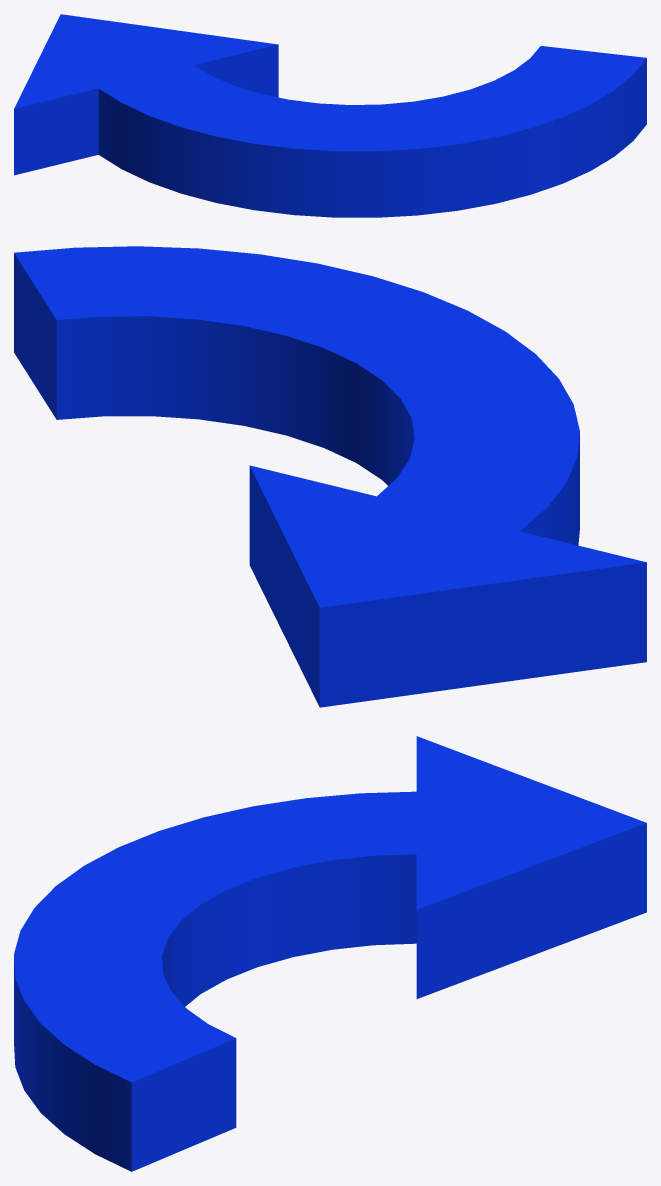
File: ExpArrowcurve.FBX
3 views of the same model, one above another, from view 1: azimuth 30°, elevation 25°; view 2: azimuth 150°, elevation 25°; view 3: azimuth 270°, elevation 25° (orthographic). The views are drawn at different scales.
Parts seen in each view (by area): view 1: Saliente-Extruir1; view 2: Saliente-Extruir1; view 3: Saliente-Extruir1.
Part boxes in pixels (left/top/right/bottom): Saliente-Extruir1: left=14, top=14, right=646, bottom=217; Saliente-Extruir1: left=14, top=246, right=646, bottom=707; Saliente-Extruir1: left=14, top=736, right=646, bottom=1171.
Size of the model in its own units: 9.81 by 1.18 by 7.57.
